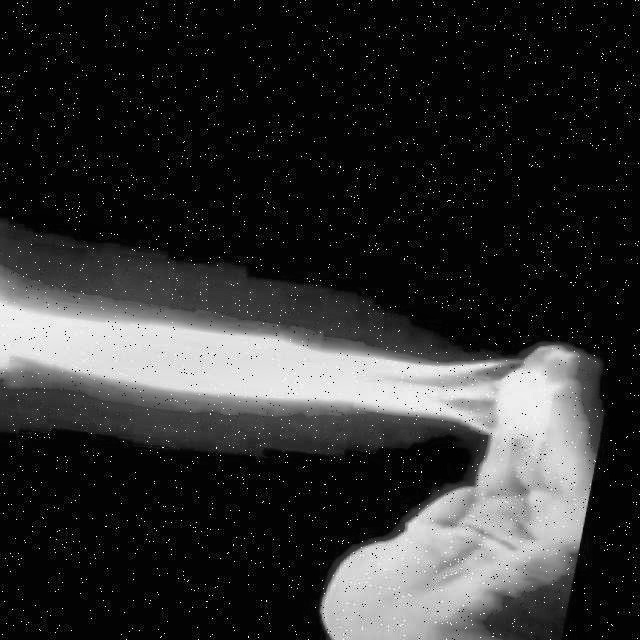Fire: (0, 263, 582, 467)
